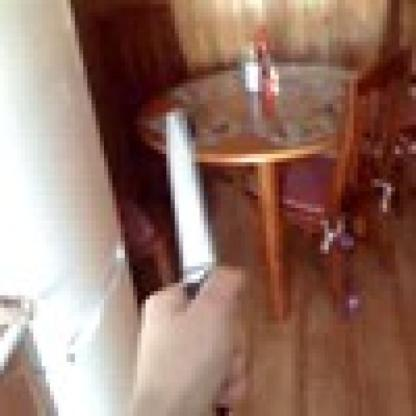Knife: (145, 100, 254, 399)
